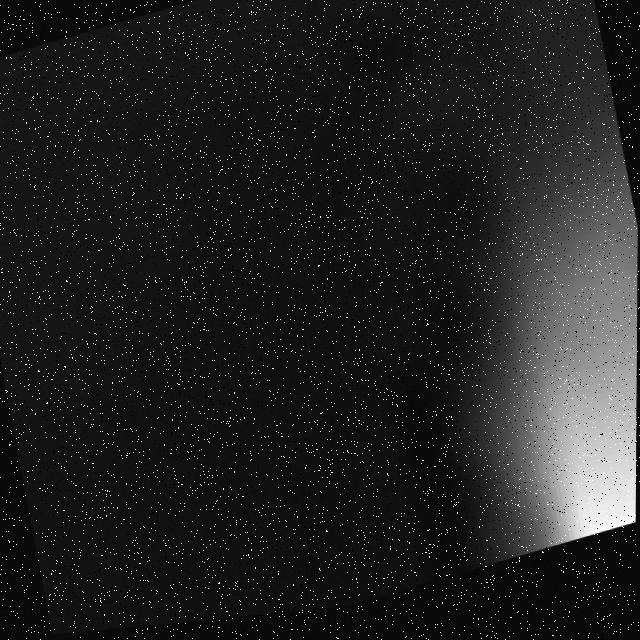person: (406, 50, 640, 581)
